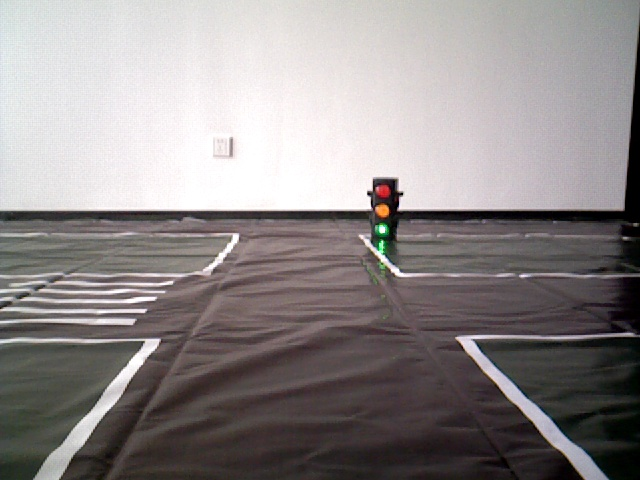green: (371, 178, 393, 236)
